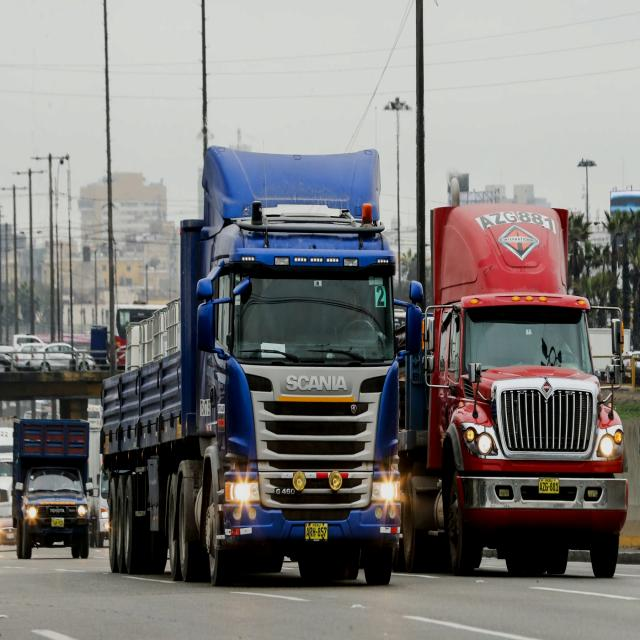TRUCK: (102, 161, 411, 588), (418, 197, 624, 582)
